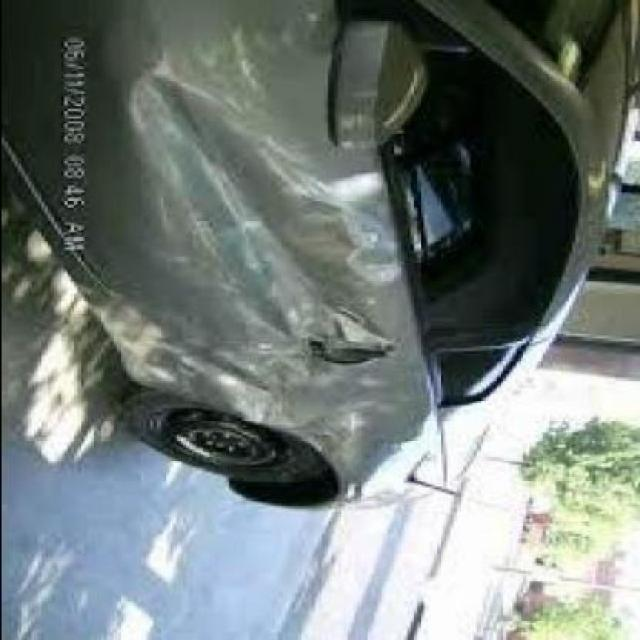damage: (31, 6, 429, 433)
